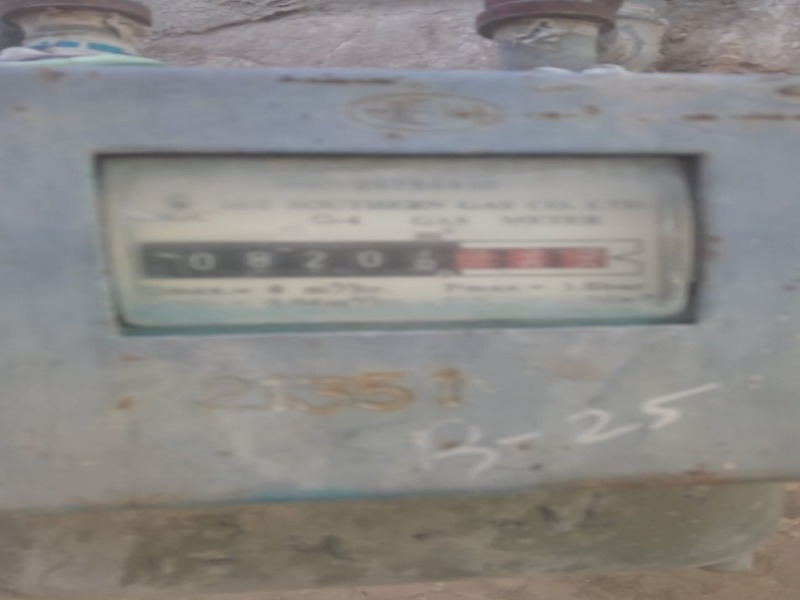ssgc: (136, 236, 623, 282)
